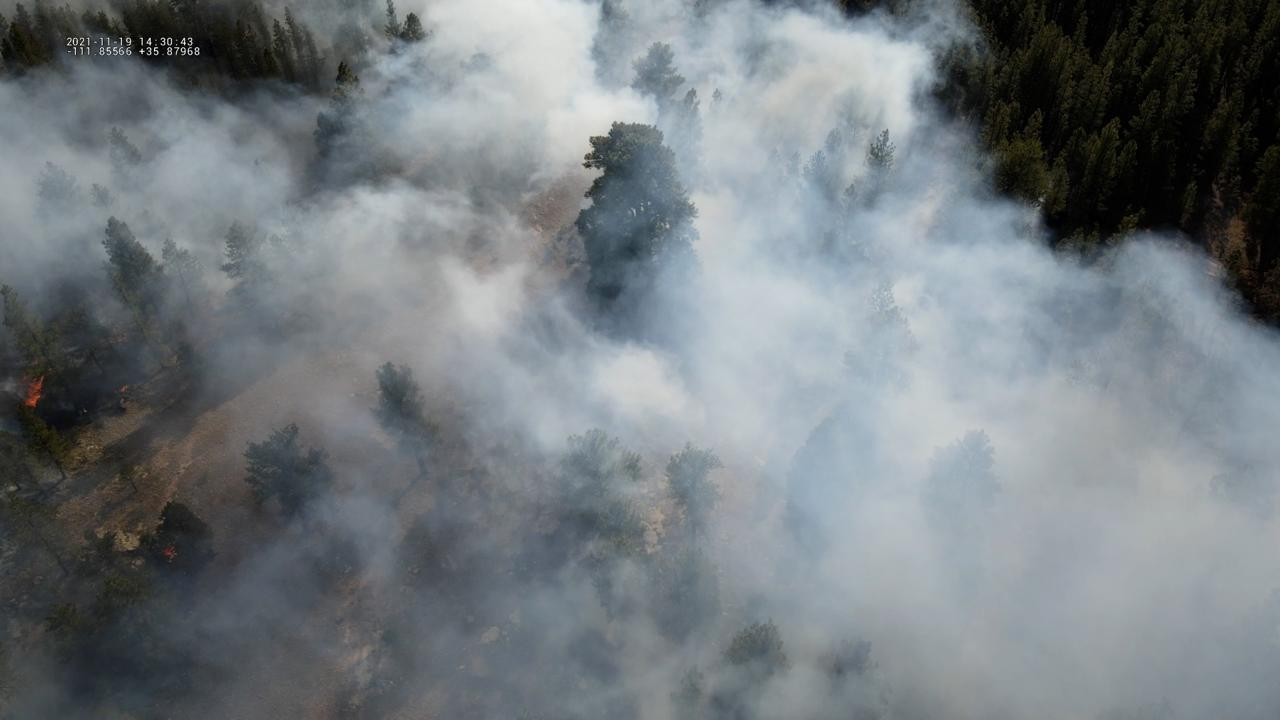fire: (19, 369, 45, 408), (160, 543, 178, 564), (119, 383, 130, 394)
smoke: (0, 0, 1280, 720)
